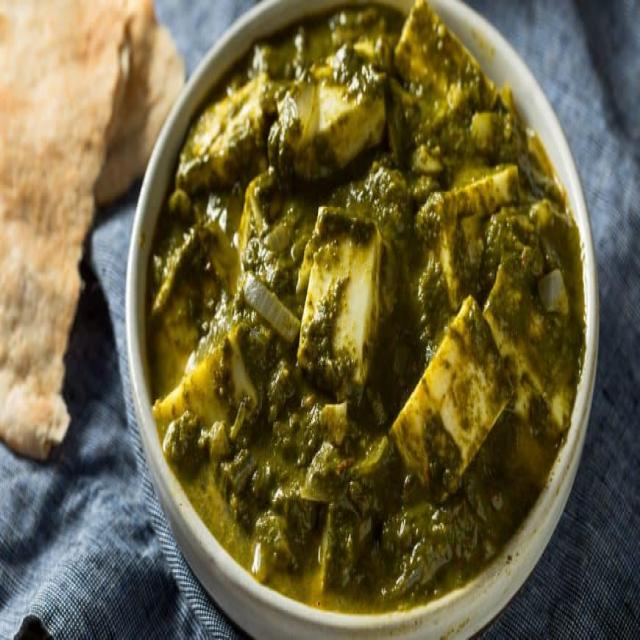Palak Paneer: (145, 0, 594, 609)
